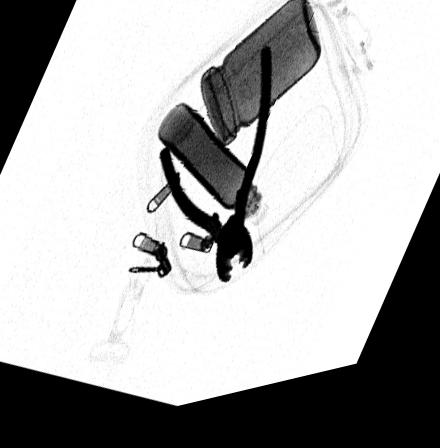Pliers: (158, 56, 272, 291)
